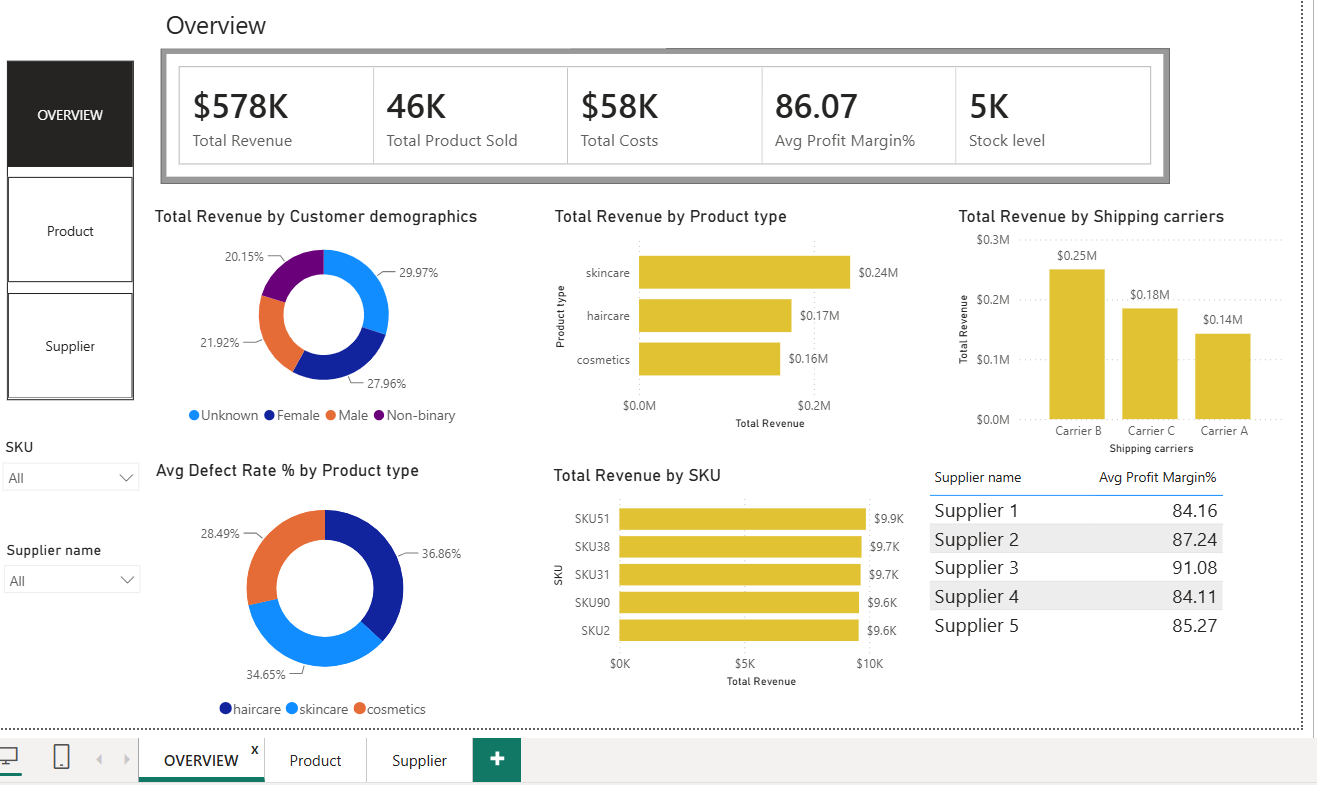

The page's visual inventory and layout, read from the dashboard file:
{"tool":"powerbi","page":{"name":"OVERVIEW","canvas":[1280,720],"ordinal":0},"visuals":[{"type":"cardVisual","fields":{"Data":["_Measures.Total Revenue","_Measures.Total Product Sold","_Measures.Total Costs","_Measures.Avg Profit Margin%","_Measures.Stock level"]},"box":[165,55,987.5,132.5],"z":0},{"type":"donutChart","fields":{"Y":["_Measures.Total Revenue"],"Category":["supply chain analysis.Customer demographics"]},"box":[153.8,208.8,341.2,223.8],"z":1000},{"type":"donutChart","fields":{"Category":["supply chain analysis.Product type"],"Y":["_Measures.Avg Defect Rate %"]},"box":[155,457.5,341.2,262.5],"z":2000},{"type":"clusteredBarChart","fields":{"Y":["_Measures.Total Revenue"],"Category":["supply chain analysis.Product type"]},"box":[545,208.8,366.2,223.8],"z":3000},{"type":"columnChart","fields":{"Category":["supply chain analysis.Shipping carriers"],"Y":["_Measures.Total Revenue"]},"box":[940,208.8,327.5,248.8],"z":4000},{"type":"textbox","box":[96.2,0,562.5,55],"z":5000},{"type":"textbox","box":[165.1,11,401.1,44],"z":6000},{"type":"tableEx","fields":{"Values":["supply chain analysis.Supplier name","_Measures.Avg Profit Margin%"]},"box":[911.2,458.8,328.8,261.2],"z":7000},{"type":"pageNavigator","box":[14.4,67.8,124.1,331.8],"z":8000,"group":"g1"},{"type":"clusteredBarChart","fields":{"Y":["_Measures.Total Revenue"],"Category":["supply chain analysis.SKU"]},"box":[544.7,462.2,366.9,223.3],"z":8000},{"type":"group","id":"g1","title":"Group 1","box":[0,67.8,155,546.6],"z":9000},{"type":"slicer","fields":{"Values":["supply chain analysis.SKU"]},"box":[0,432.3,153.6,82.5],"z":9000,"group":"g1"},{"type":"slicer","fields":{"Values":["supply chain analysis.Supplier name"]},"box":[1.4,531.9,153.6,82.5],"z":10000,"group":"g1"}]}

Visuals, with their boxes on the page's 1280x720 design canvas (x1, y1, x2, y2). These are canvas units, not pixel positions in the 1317x785 screenshot, which may show the page scaled, cropped or inside an application window:
cardVisual - _Measures.Total Revenue x _Measures.Total Product Sold: <box>165,55,1152,188</box>
donutChart - _Measures.Total Revenue x supply chain analysis.Customer demographics: <box>154,209,495,433</box>
donutChart - supply chain analysis.Product type x _Measures.Avg Defect Rate %: <box>155,458,496,720</box>
clusteredBarChart - _Measures.Total Revenue x supply chain analysis.Product type: <box>545,209,911,433</box>
columnChart - supply chain analysis.Shipping carriers x _Measures.Total Revenue: <box>940,209,1268,458</box>
textbox: <box>96,0,659,55</box>
textbox: <box>165,11,566,55</box>
tableEx - supply chain analysis.Supplier name x _Measures.Avg Profit Margin%: <box>911,459,1240,720</box>
pageNavigator: <box>14,68,138,400</box>
clusteredBarChart - _Measures.Total Revenue x supply chain analysis.SKU: <box>545,462,912,686</box>
"Group 1" group: <box>0,68,155,614</box>
slicer - supply chain analysis.SKU: <box>0,432,154,515</box>
slicer - supply chain analysis.Supplier name: <box>1,532,155,614</box>
